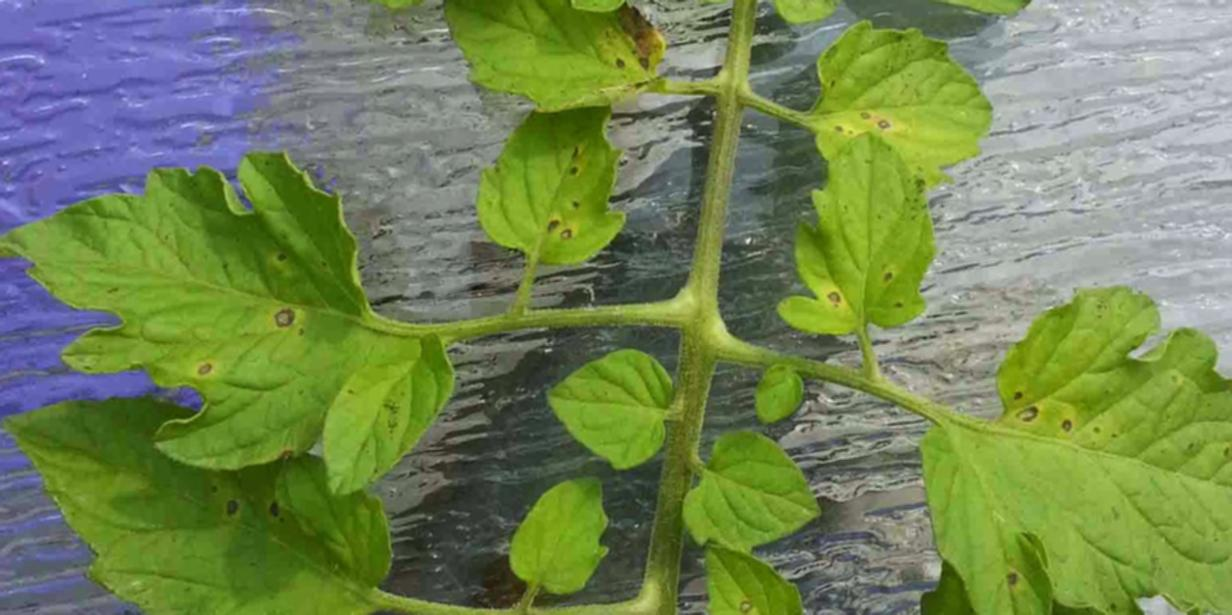Tomato Septoria leaf spot: (5, 137, 457, 513), (930, 296, 1232, 615), (768, 123, 991, 367), (788, 21, 996, 205), (470, 85, 644, 300), (439, 0, 688, 106)
